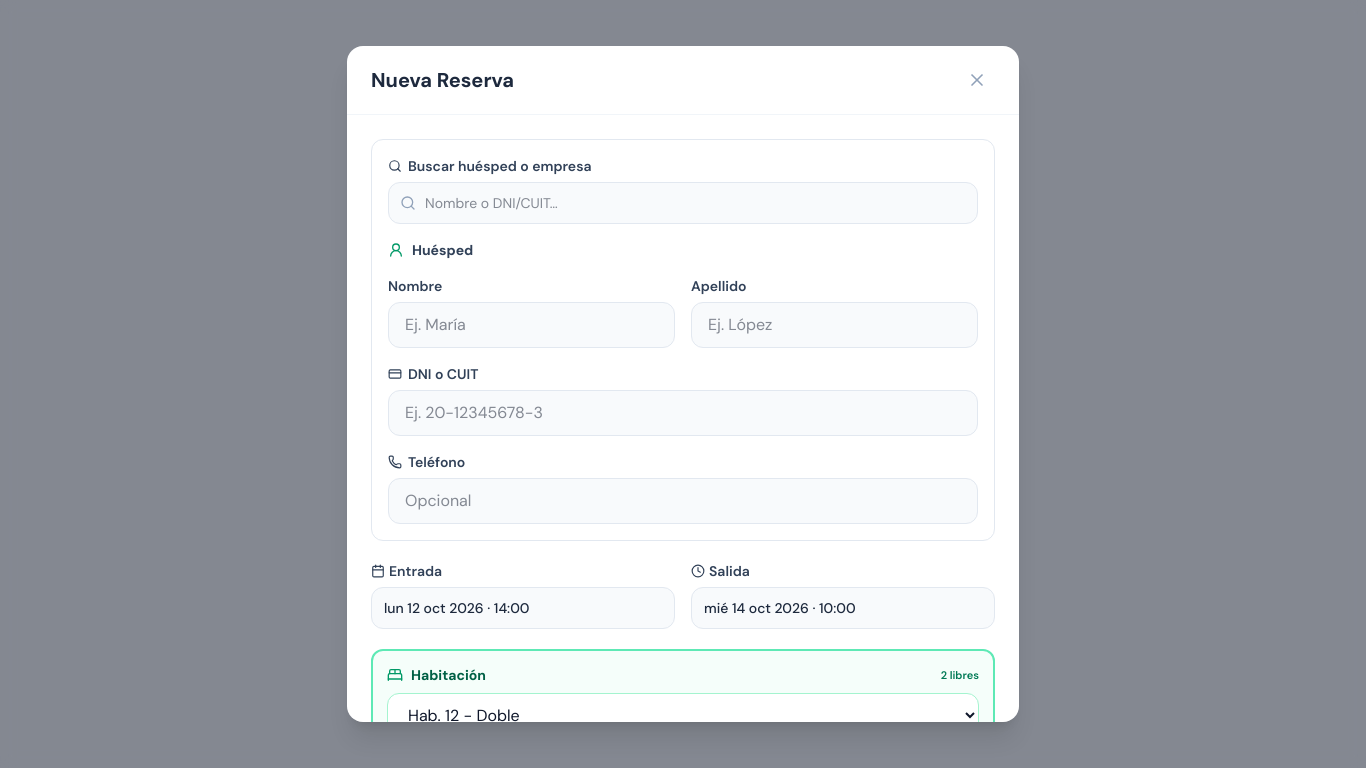
Test case: NewReservationModal: aviso cuando la habitación elegida deja de estar libre › con la Hab. 12 elegida, cambiar la salida a un día en que está ocupada: aviso y selector vacío
The width and height of the screenshot is (1366, 768).
expect the dropdown labelled "Habitación" shows "Hab. 12 - Doble": met, box [387,693,979,722]
expect the text "no está libre" is not shown: met
Click the button named "Salida" at (843, 608), box [691,587,995,629]
(page scrolled)
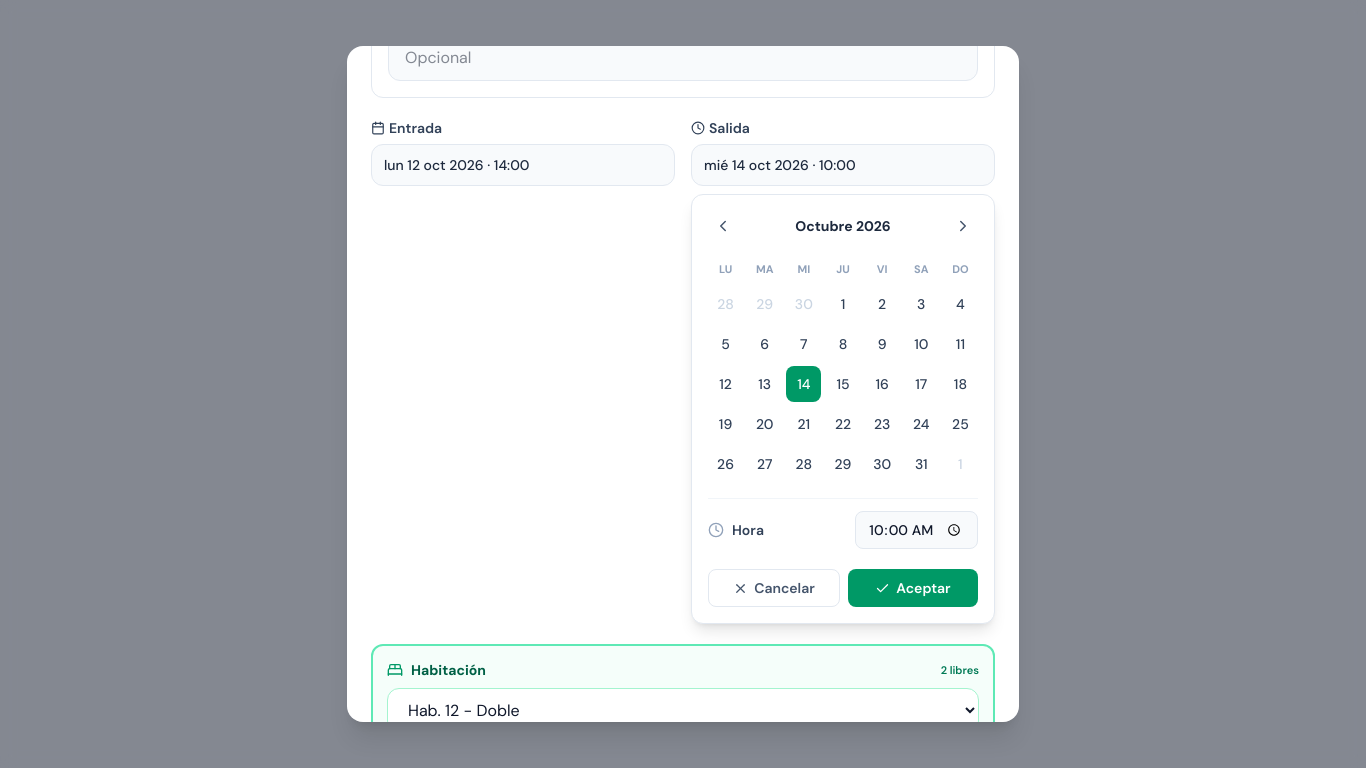
Click the button "16" at (882, 384), box [865,366,900,402]
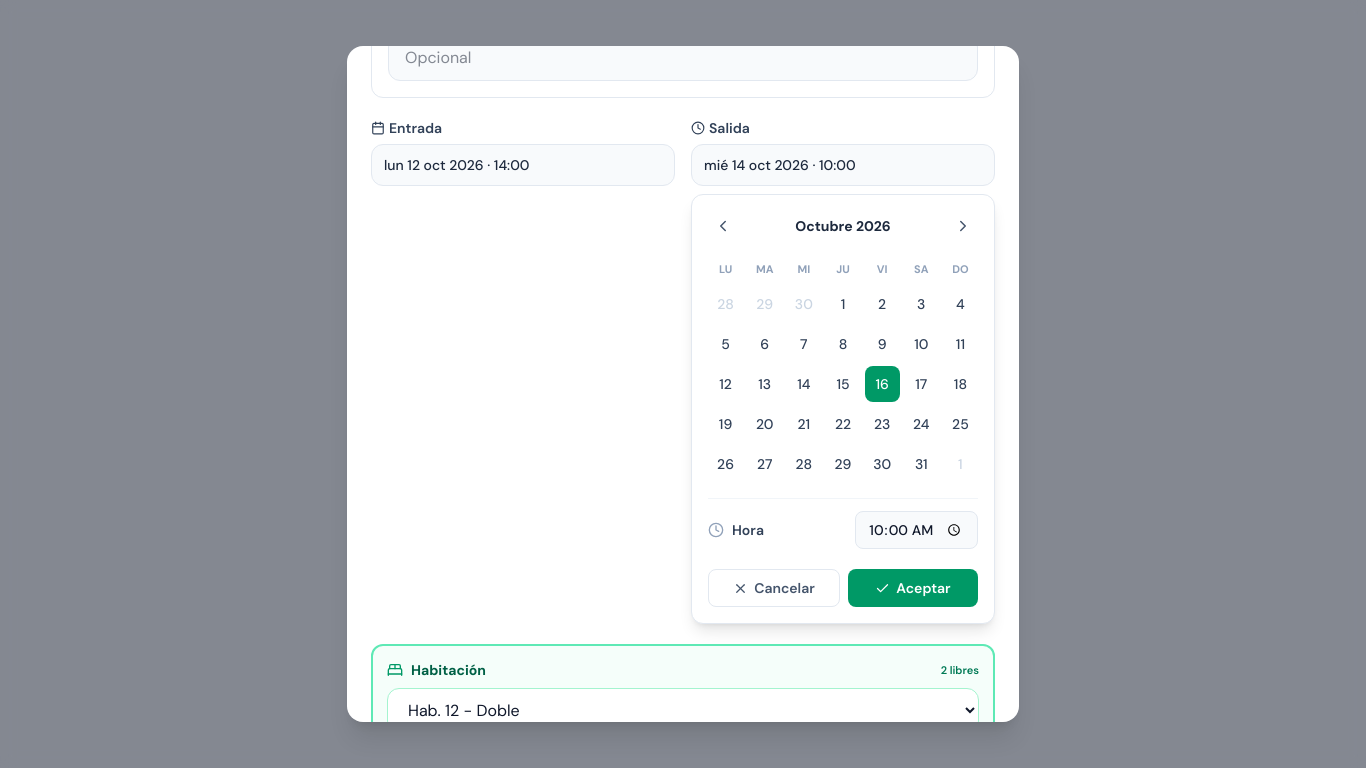
Click the button "Aceptar" at (913, 588), box [848,569,978,607]
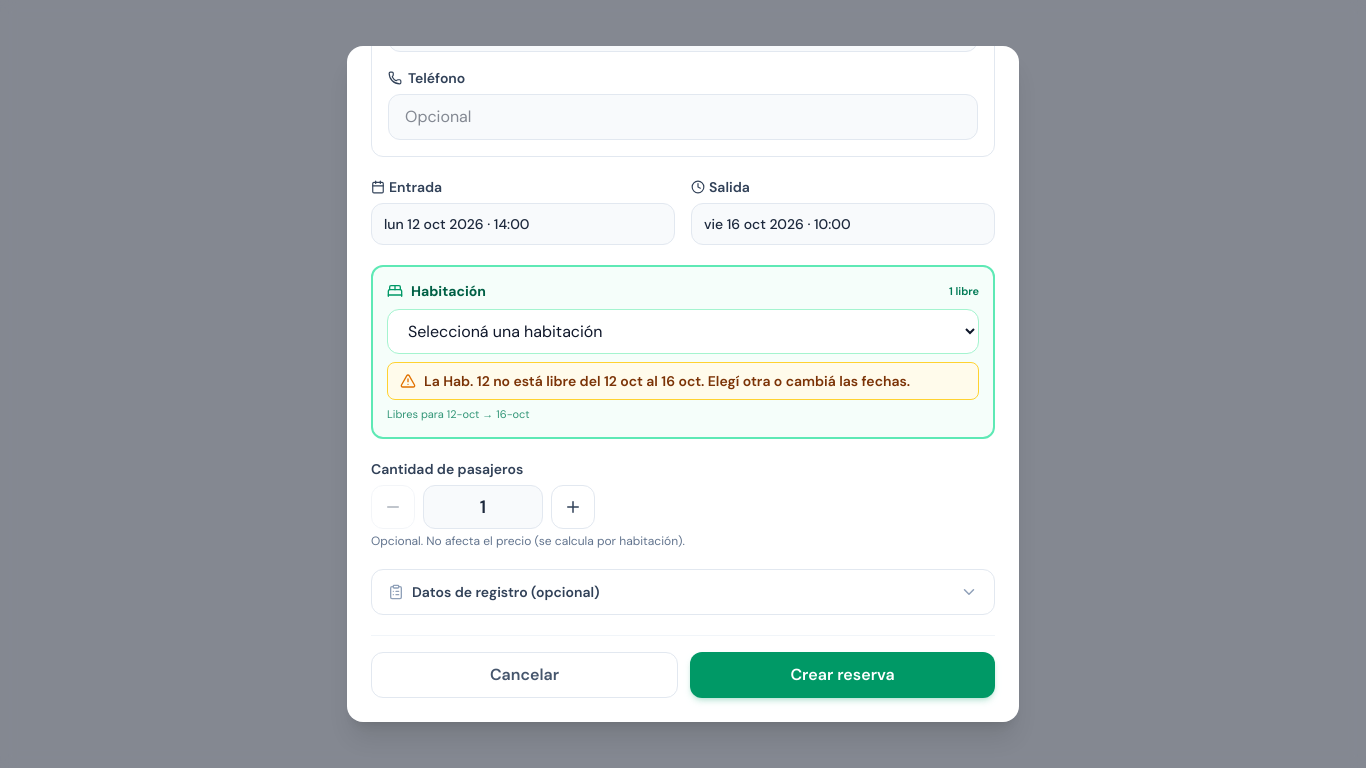
expect the text "La Hab. 12 no está libre del 12 oct al 16 oct. Elegí otra o cambiá las fechas." is shown: met, box [424,371,910,391]
expect the dropdown labelled "Habitación" shows "Seleccioná una habitación": met, box [387,309,979,354]
